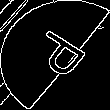P_SE: (19, 25, 91, 85)
